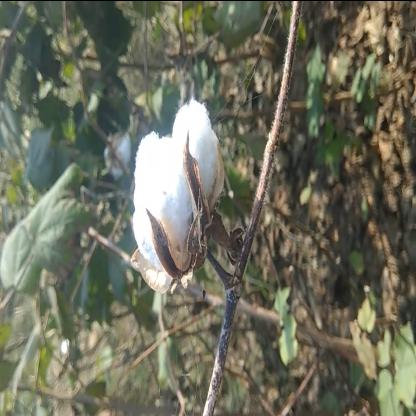cotton_ready: (108, 101, 270, 320)
